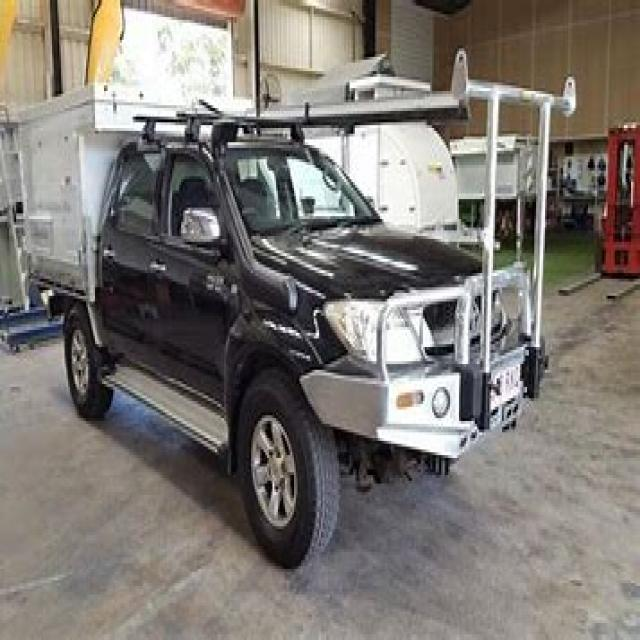light_vehicle: (11, 122, 550, 580)
